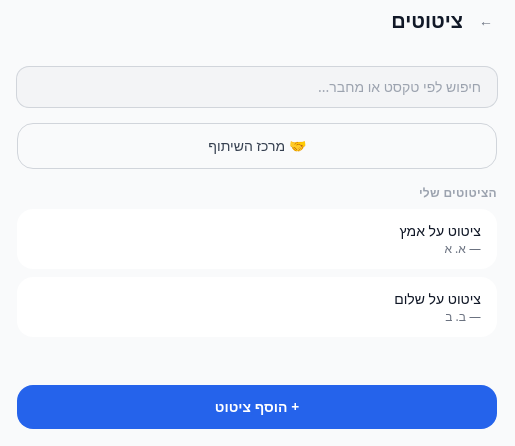
CitationsScreen › filters by text in real time
The width and height of the screenshot is (515, 446).
Type "אמץ" into the field with placeholder "חיפוש לפי טקסט או מחבר..." at [257, 87], box [17,67,497,107]
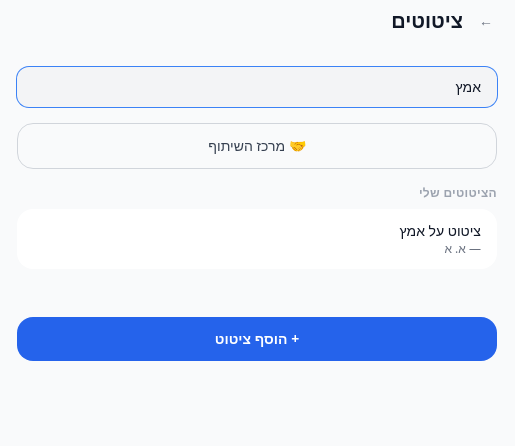
Expected: the text "ציטוט על אמץ" is shown, [400,221,481,240]
Expected: the button "ציטוט על שלום" is gone
